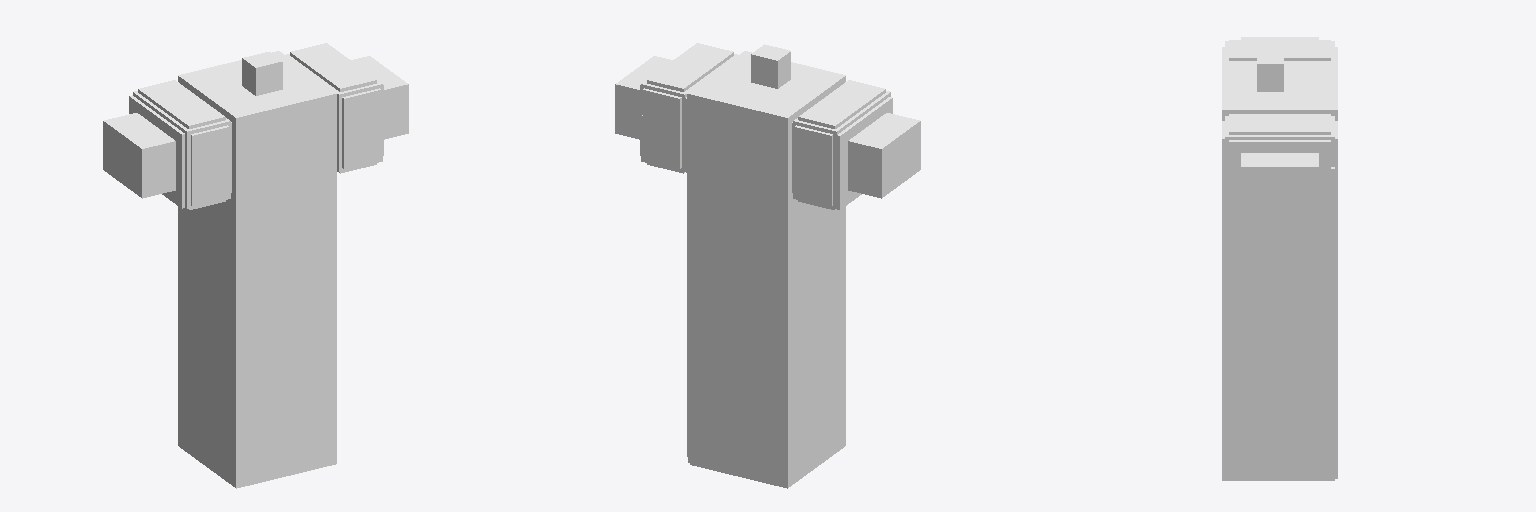
Rendered from big_robo_body.obj.
3 views of the same model, side by side, from view 1: azimuth 30°, elevation 25°; view 2: azimuth 150°, elevation 25°; view 3: azimuth 270°, elevation 25° (orthographic).
Visible parts, largest first — view 1: object 1; view 2: object 1; view 3: object 1.
Part boxes in pixels (bbox=[...]): object 1: bbox=[103, 43, 408, 488]; object 1: bbox=[615, 43, 920, 488]; object 1: bbox=[1222, 37, 1337, 480].
Size of the model in its own units: 7.9 by 11.3 by 3.